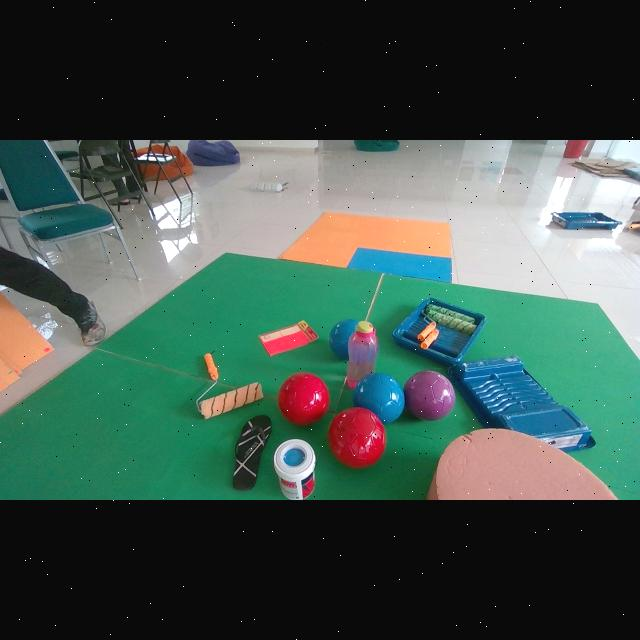B: (352, 372, 405, 424), (329, 320, 359, 359)
P: (404, 371, 456, 420)
R: (327, 408, 386, 468), (277, 372, 330, 425)
